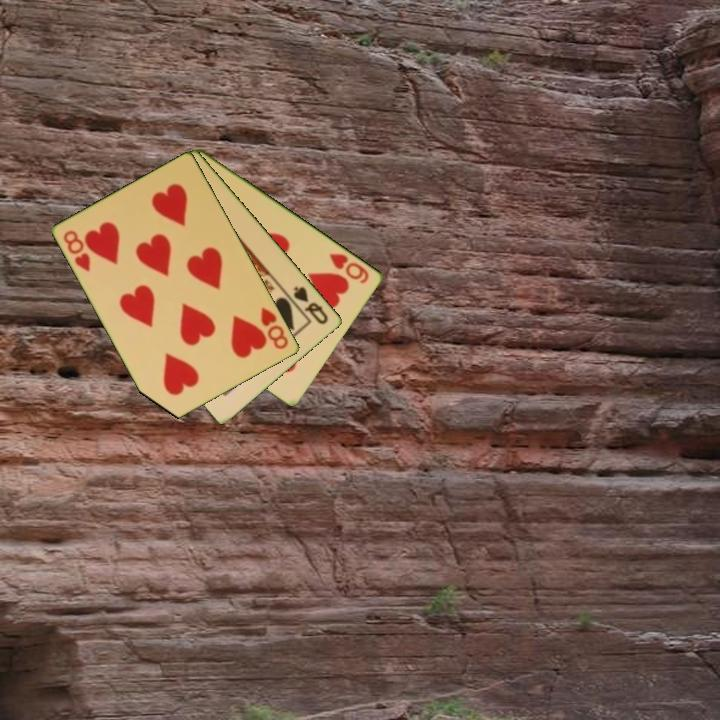6h: (326, 250, 372, 286)
8h: (257, 303, 291, 352), (60, 227, 94, 275)
Qs: (290, 282, 331, 327)
